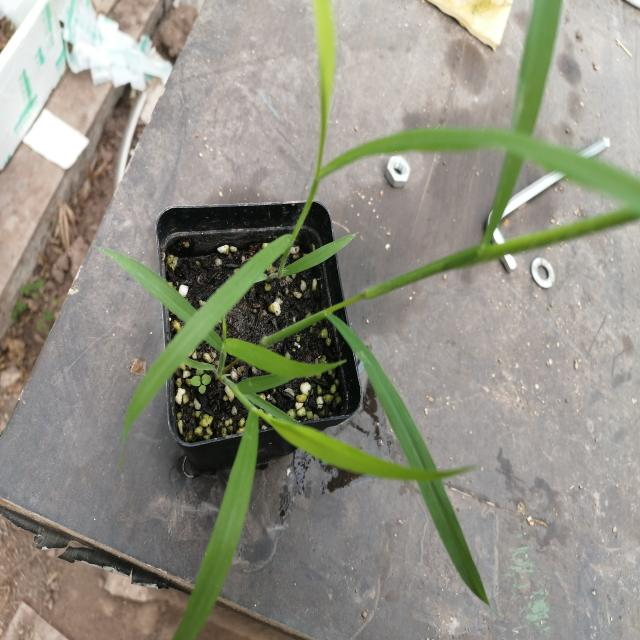crabgrass: (103, 103, 478, 591)
